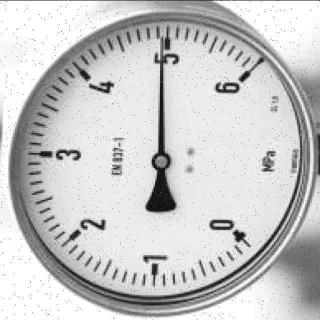gauge: (0, 7, 320, 320), (213, 65, 263, 107), (205, 210, 255, 251), (151, 150, 171, 170), (156, 30, 170, 47)
